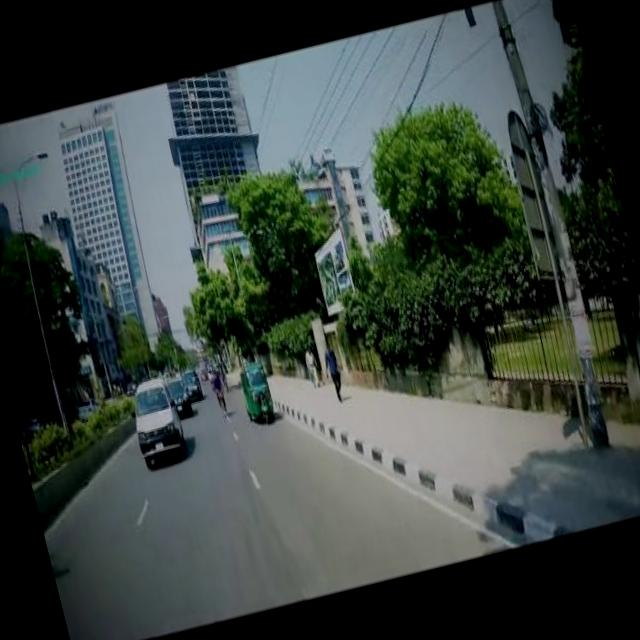car: (165, 374, 191, 411), (73, 392, 99, 417), (181, 365, 201, 396)
motorcycle: (232, 356, 275, 422)
truck: (121, 370, 187, 465)
